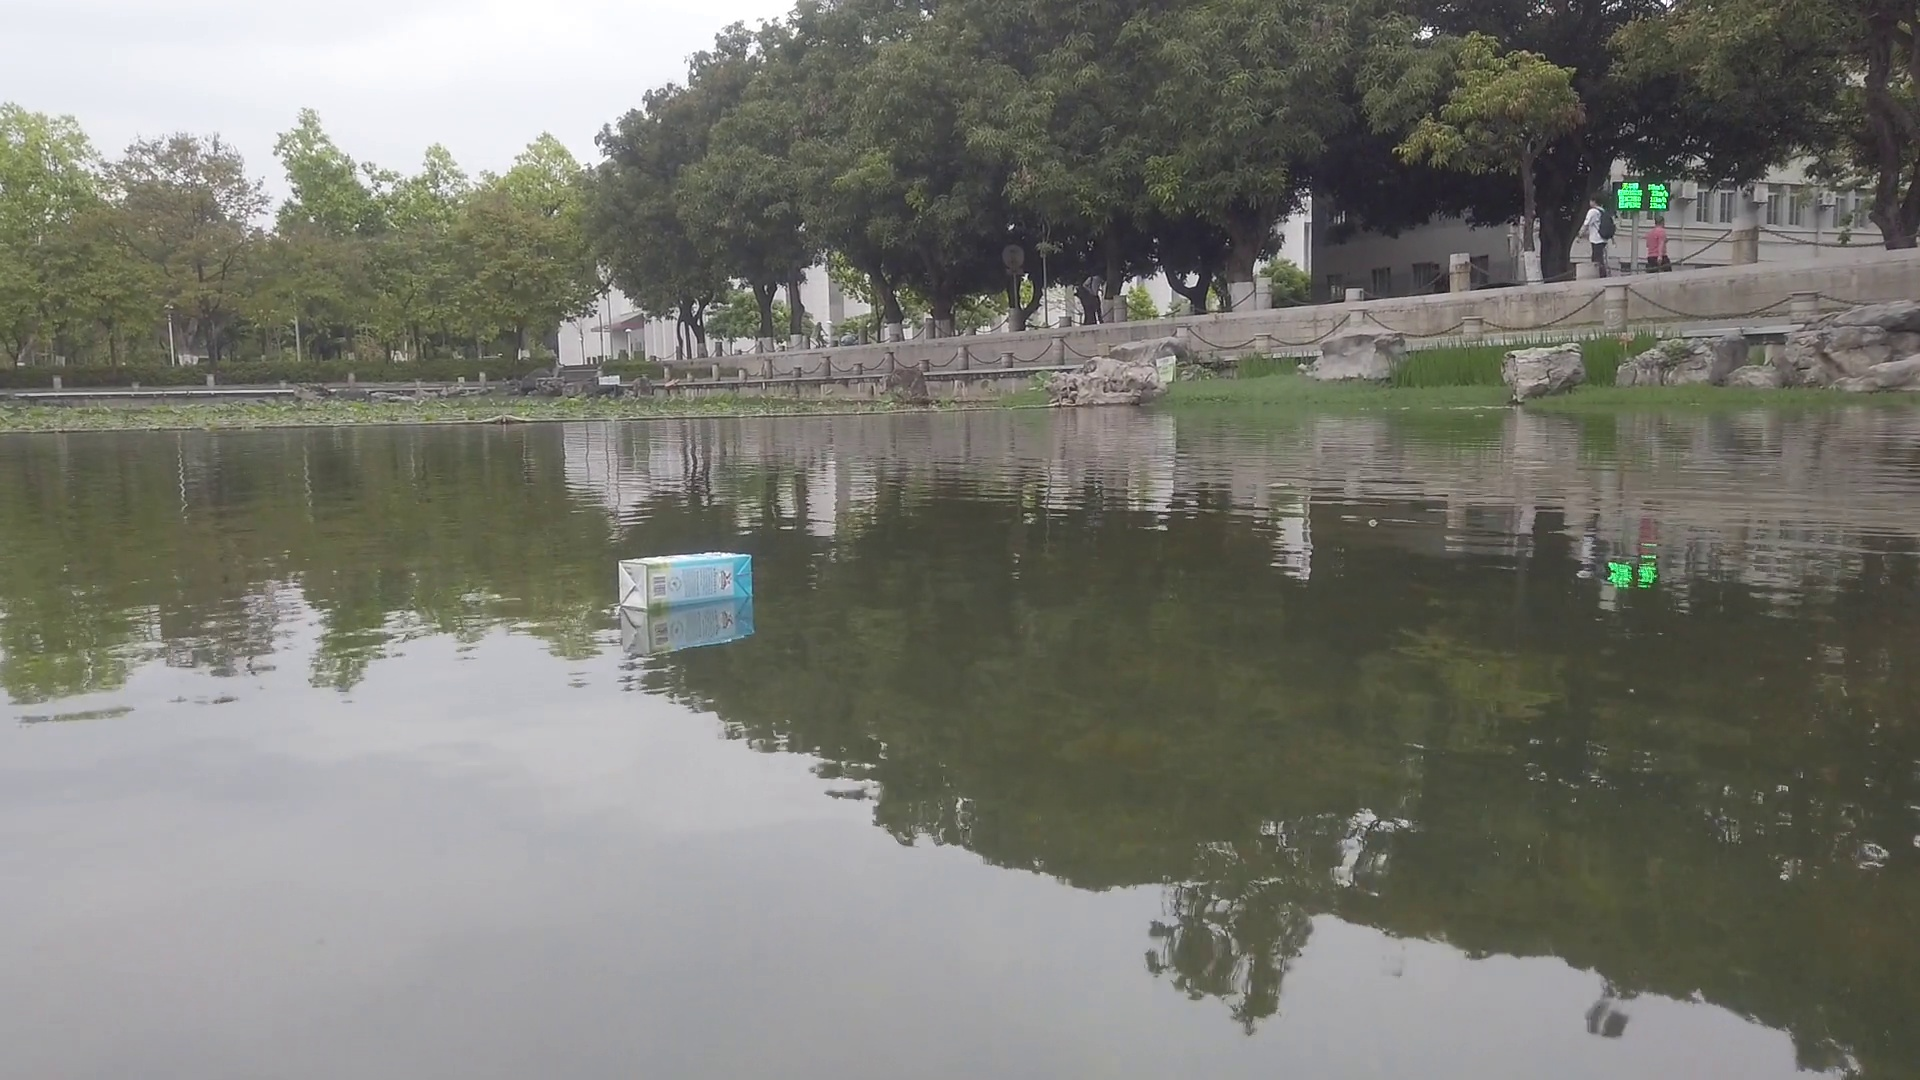carton: (616, 556, 758, 611)
